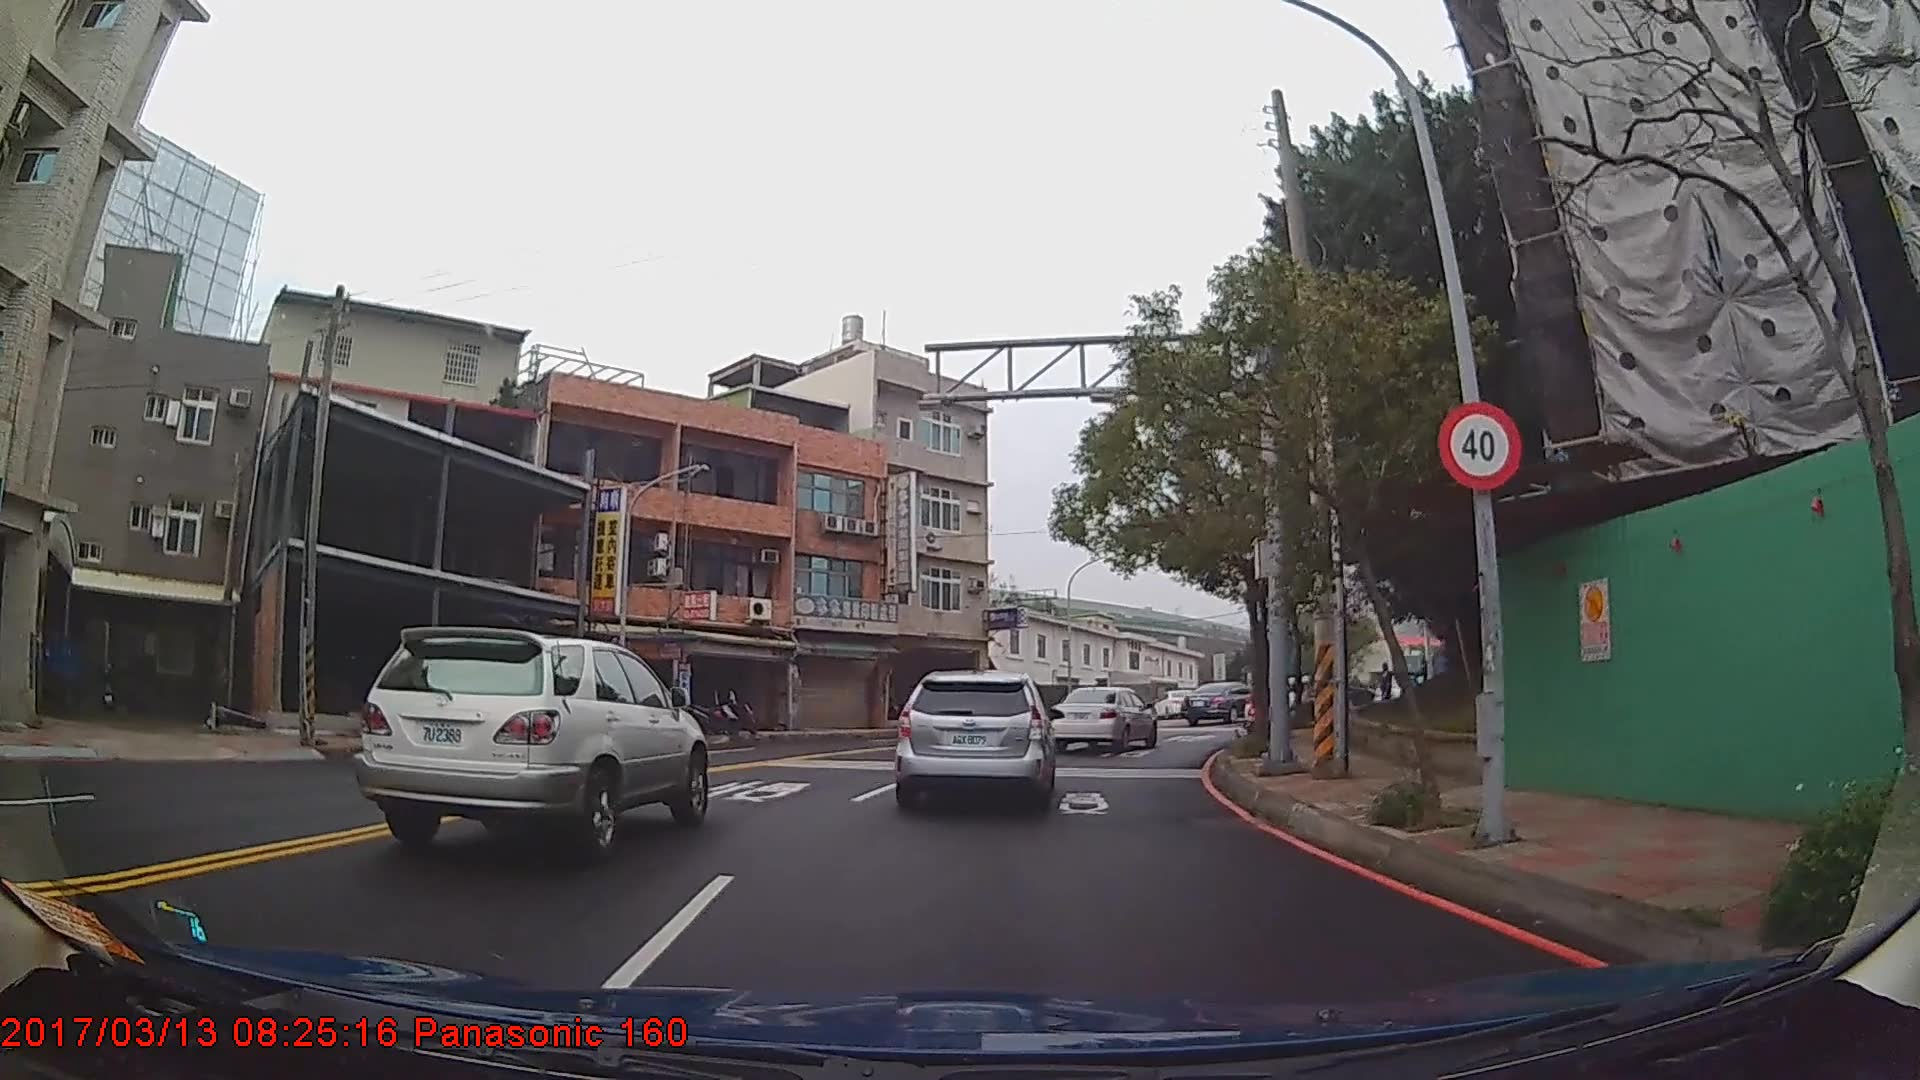vehicle: (353, 624, 709, 857), (894, 669, 1058, 814), (1048, 686, 1160, 753), (1178, 680, 1263, 727)
